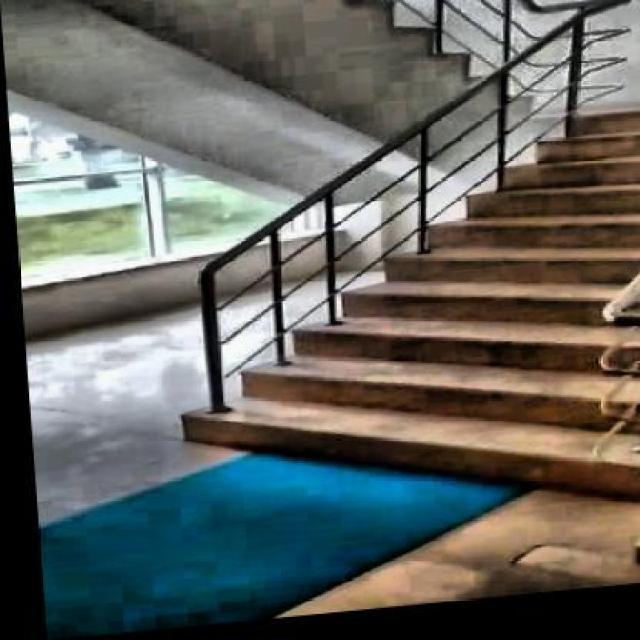stair: (143, 89, 639, 554)
